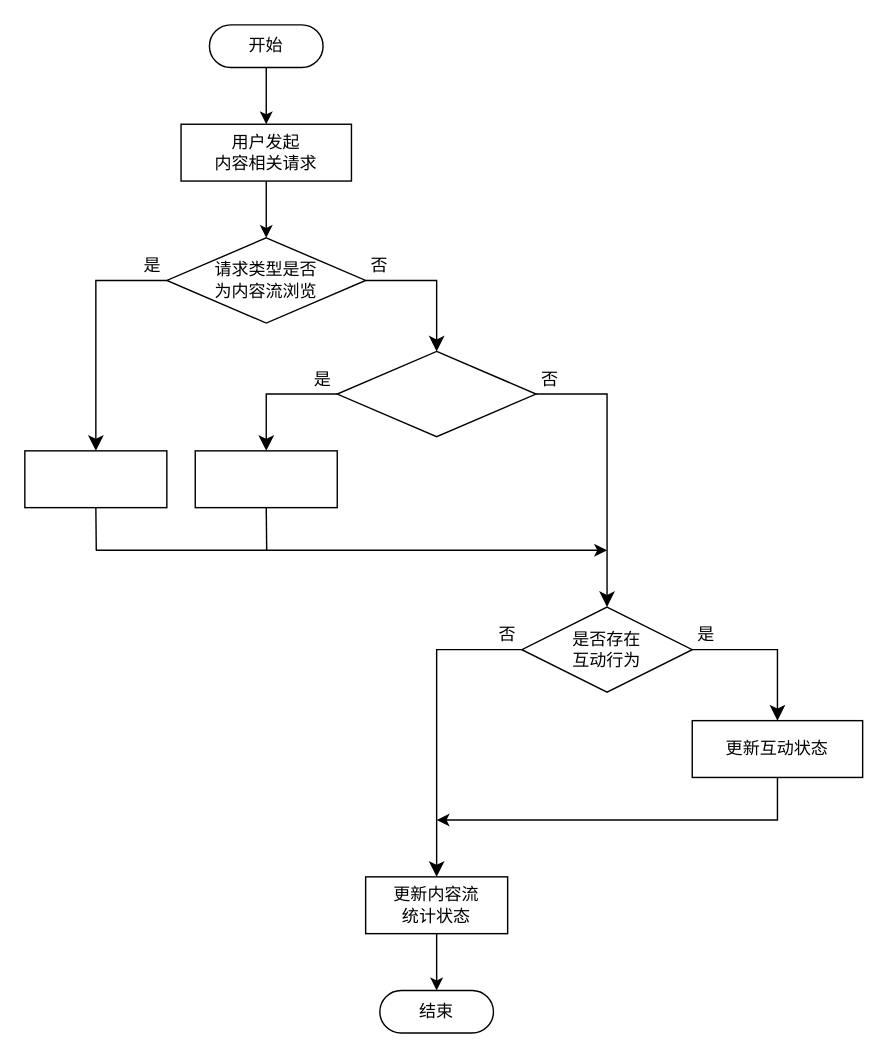
This 888x1058 diagram has some shape labels left out. Here are the shapes that lost their labels. From the top down, the centre of each, then its label:
the point at 436,393: 请求类型是否 为详情查看
the point at 95,478: 加载内容流列表
the point at 265,478: 加载内容详情
